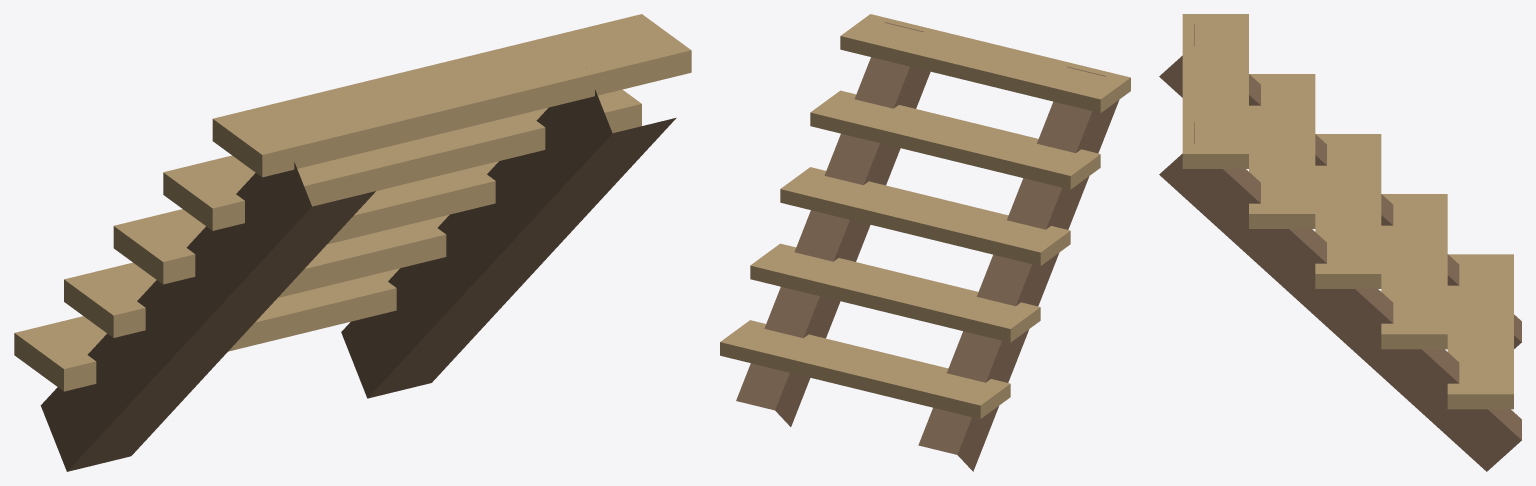
The model's file is Beach_Prop_Docks_Steps.glb.
The picture shows the model from 3 angles, left to right: view 1: azimuth 30°, elevation 25°; view 2: azimuth 150°, elevation 25°; view 3: azimuth 270°, elevation 25°; orthographic projection. The views are drawn at different scales.
Parts seen in each view (by area): view 1: Beach_Prop_Docks_Steps; view 2: Beach_Prop_Docks_Steps; view 3: Beach_Prop_Docks_Steps.
Part boxes in pixels (x1,y1,x2,y2): Beach_Prop_Docks_Steps: (14, 14, 691, 471); Beach_Prop_Docks_Steps: (720, 14, 1130, 471); Beach_Prop_Docks_Steps: (1159, 14, 1521, 471).
Bounding box in the file's own units: 1 × 1.1 × 1.1.
